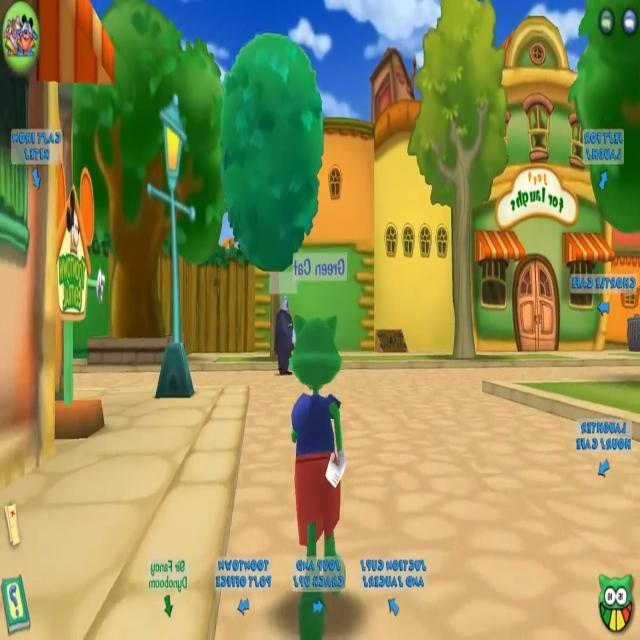bottomfeeder: (265, 269, 300, 377)
